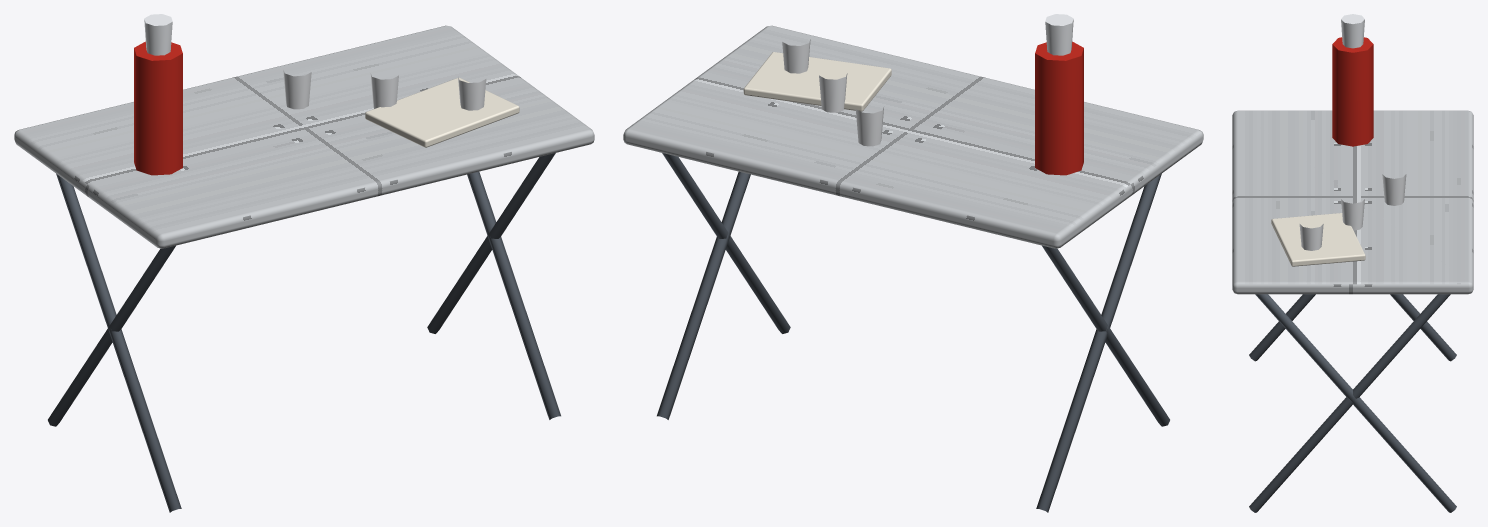
Rendered from mesa_dobravel.glb.
3 renders of one model, left to right at view 1: azimuth 30°, elevation 25°; view 2: azimuth 150°, elevation 25°; view 3: azimuth 270°, elevation 25°, orthographic. The views are drawn at different scales.
Visible parts, largest first — view 1: mesa_dobravel_metal, mesa_dobravel; view 2: mesa_dobravel_metal, mesa_dobravel; view 3: mesa_dobravel_metal, mesa_dobravel.
Boxes of the visible parts, x1,y1,x2,y2 form: mesa_dobravel_metal: (14,25,594,248); mesa_dobravel: (48,14,560,512); mesa_dobravel_metal: (623,25,1203,248); mesa_dobravel: (657,14,1169,512); mesa_dobravel_metal: (1232,110,1473,294); mesa_dobravel: (1249,14,1456,512).
Bounding box in the file's own units: 1.2 × 1.15 × 0.7.
2 materials, 1 textured.
